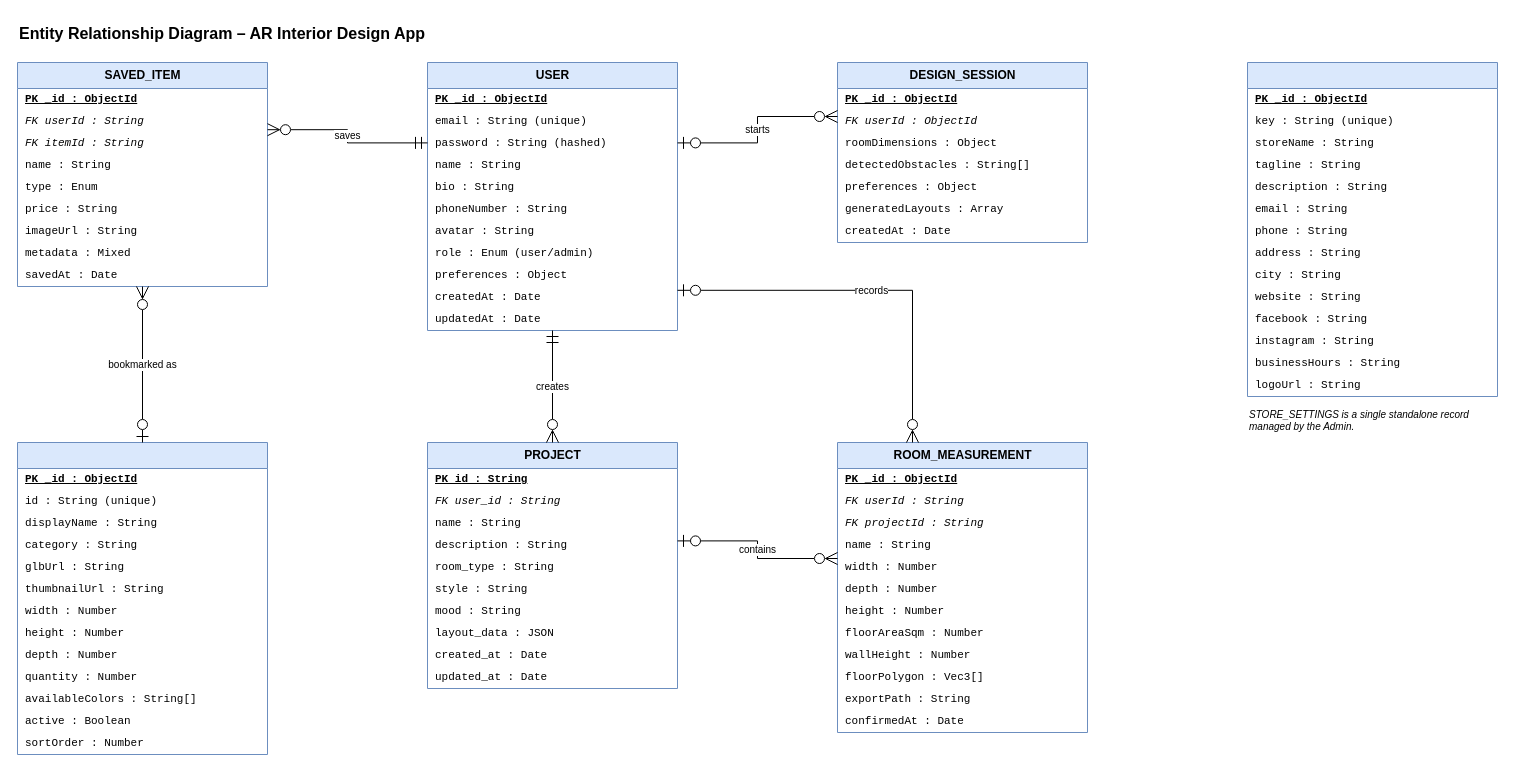
Some shapes in this 1515 by 772 pixel diagram are drawn without their labels. The box of each missing label's shape, as (x1, y1, x2, y2) in pixels:
FURNITURE: (16, 442, 268, 754)
STORE_SETTINGS: (1246, 62, 1498, 396)
